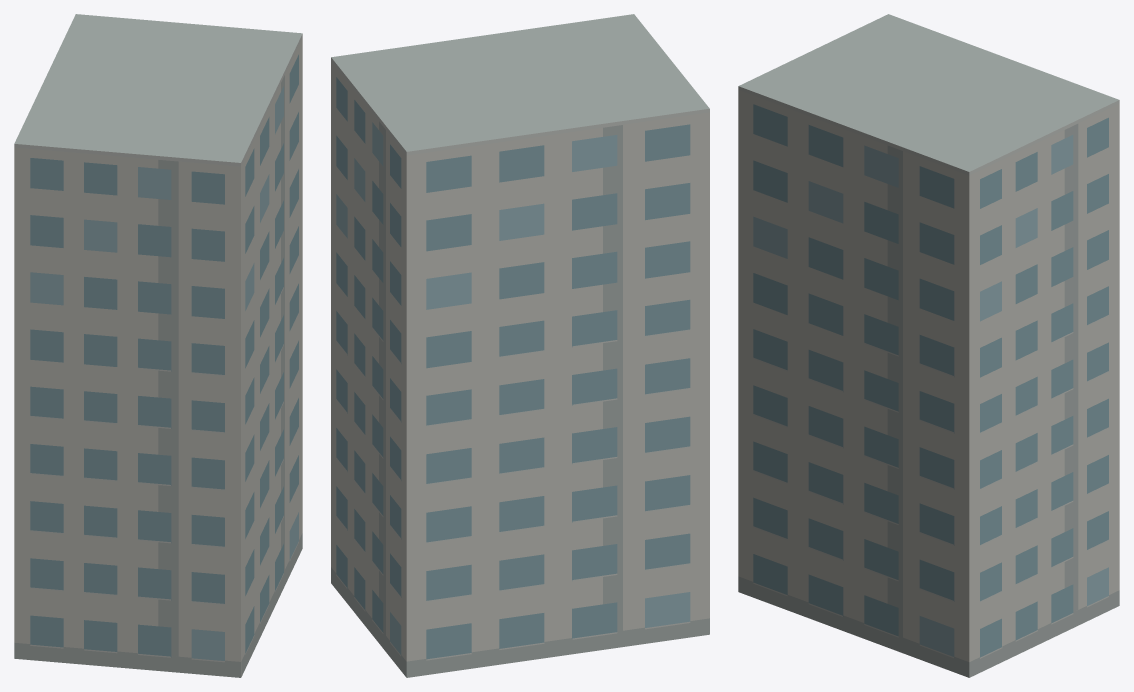
The model's file is residential-47d92e8f-4e78-4520-b915-1079bbc7b855.glb.
3 views of the same model, side by side, from view 1: azimuth 30°, elevation 25°; view 2: azimuth 150°, elevation 25°; view 3: azimuth 270°, elevation 25° (orthographic). The views are drawn at different scales.
Parts seen in each view (by area): view 1: residential-47d92e8f-4e78-4520-b915-1079bbc7b855.tmp; view 2: residential-47d92e8f-4e78-4520-b915-1079bbc7b855.tmp; view 3: residential-47d92e8f-4e78-4520-b915-1079bbc7b855.tmp.
Boxes of the visible parts, box(x1,y1,x2,y2) form: residential-47d92e8f-4e78-4520-b915-1079bbc7b855.tmp: box(14, 14, 302, 677); residential-47d92e8f-4e78-4520-b915-1079bbc7b855.tmp: box(331, 14, 709, 677); residential-47d92e8f-4e78-4520-b915-1079bbc7b855.tmp: box(738, 14, 1119, 677).
Bounding box in the file's own units: 22.11 × 33 × 22.54.
